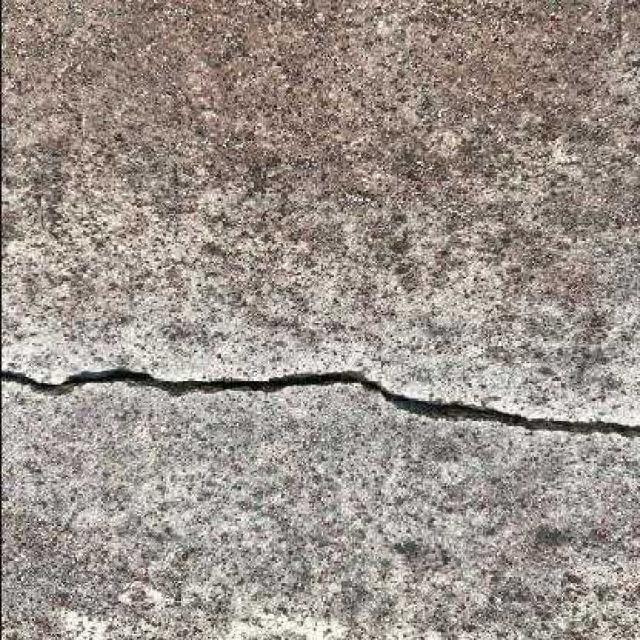D00: (0, 365, 640, 440)
